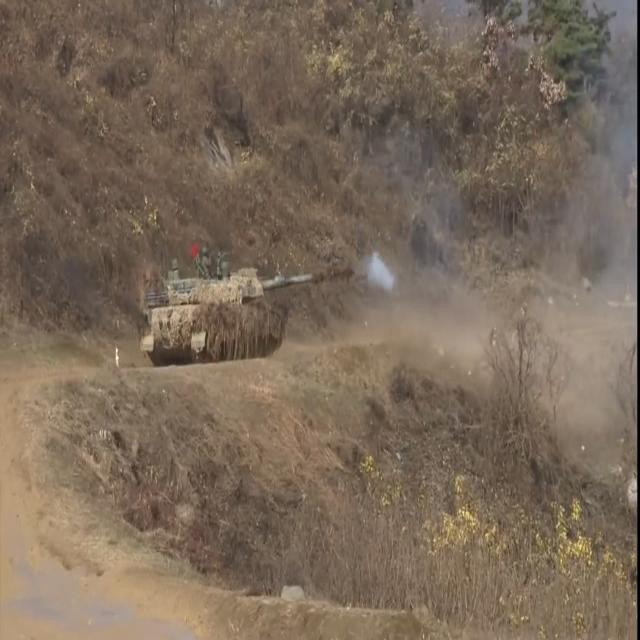korea tank: (134, 238, 360, 368)
